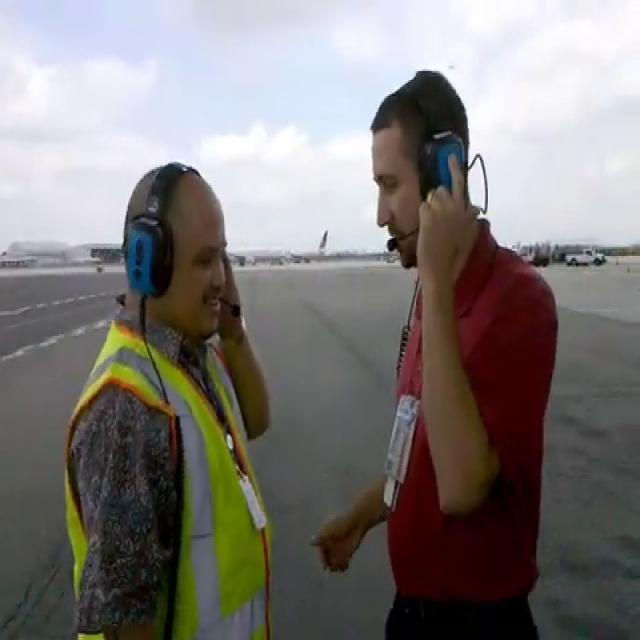earmuff: (420, 121, 476, 216), (124, 214, 175, 300)
